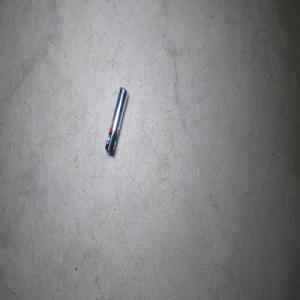Battery: (105, 86, 128, 155)
